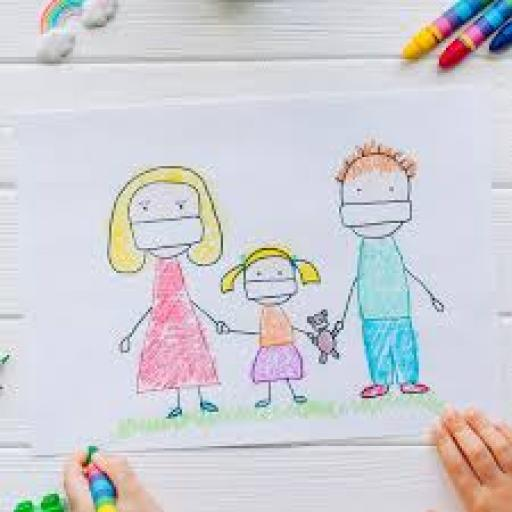person: (102, 162, 226, 432), (331, 140, 446, 415), (220, 244, 322, 415)
